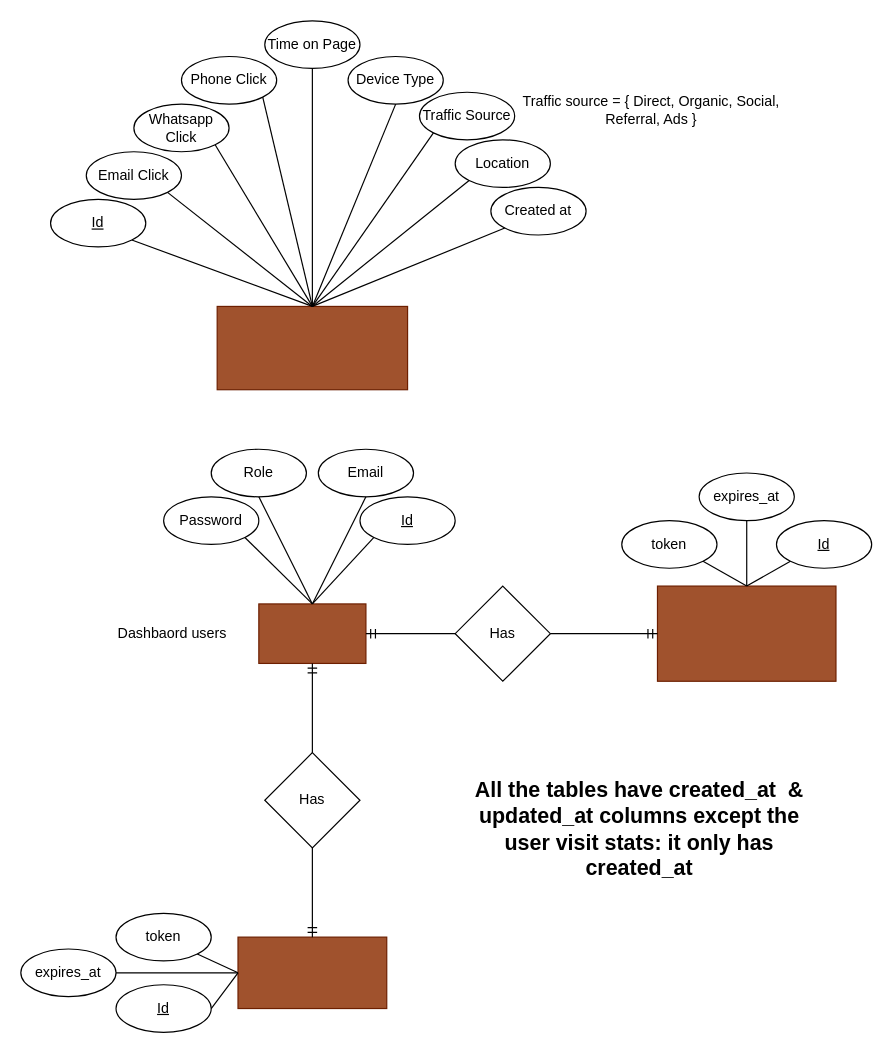
Image size: 893x1053. Some labels were removed from this diagram. The shapes that lost their labels are listed below. From the top down, each one's box as (x1, y1, x2, y2) in pixels, then its label:
(216, 305, 408, 390): User Visit Stats
(258, 603, 366, 663): User
(656, 585, 836, 681): Password reset token
(237, 936, 387, 1009): Refresh Token
